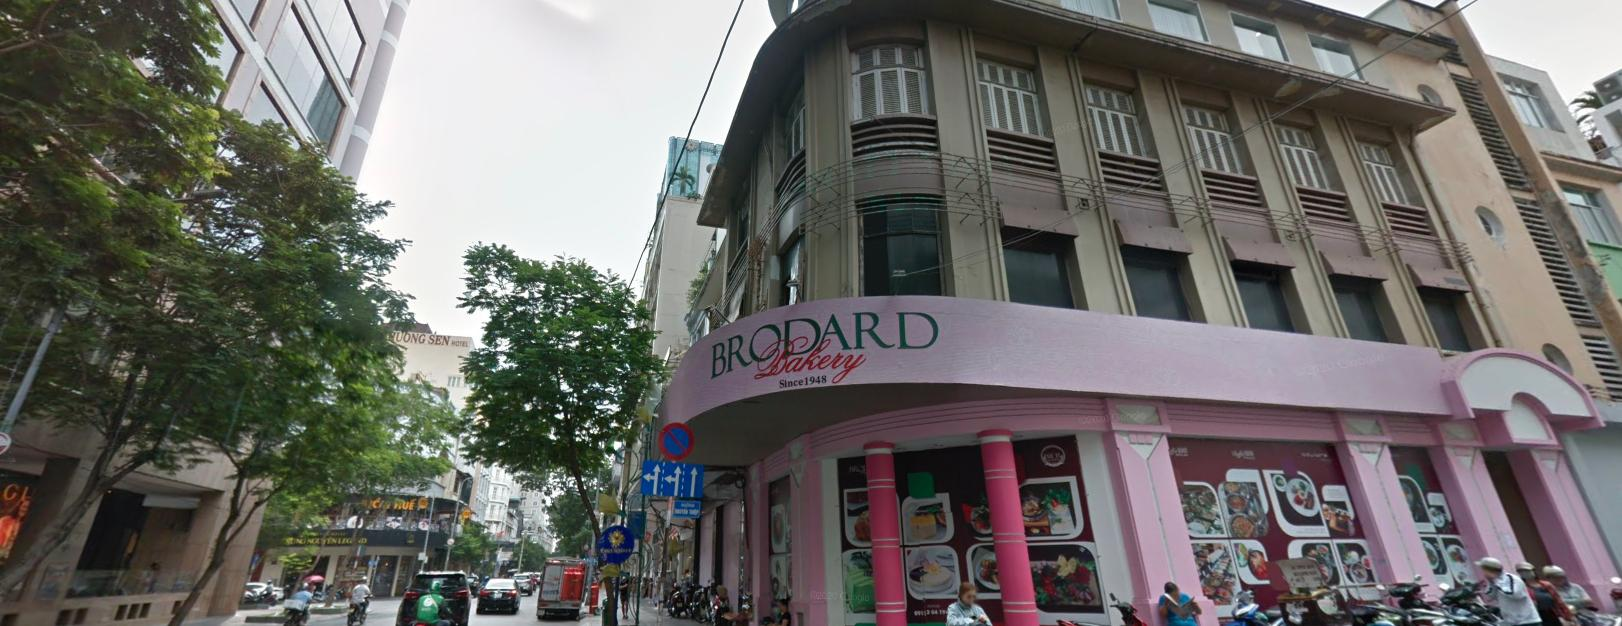Cam dung va do: (658, 420, 695, 458)
